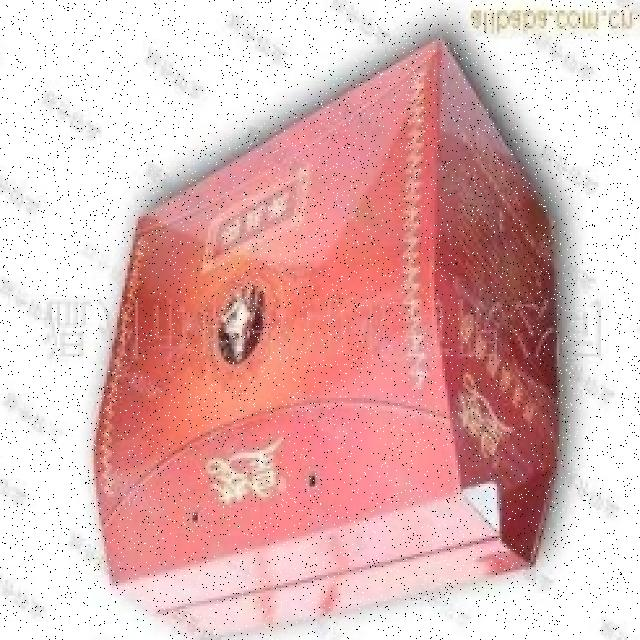box: (84, 28, 591, 630)
